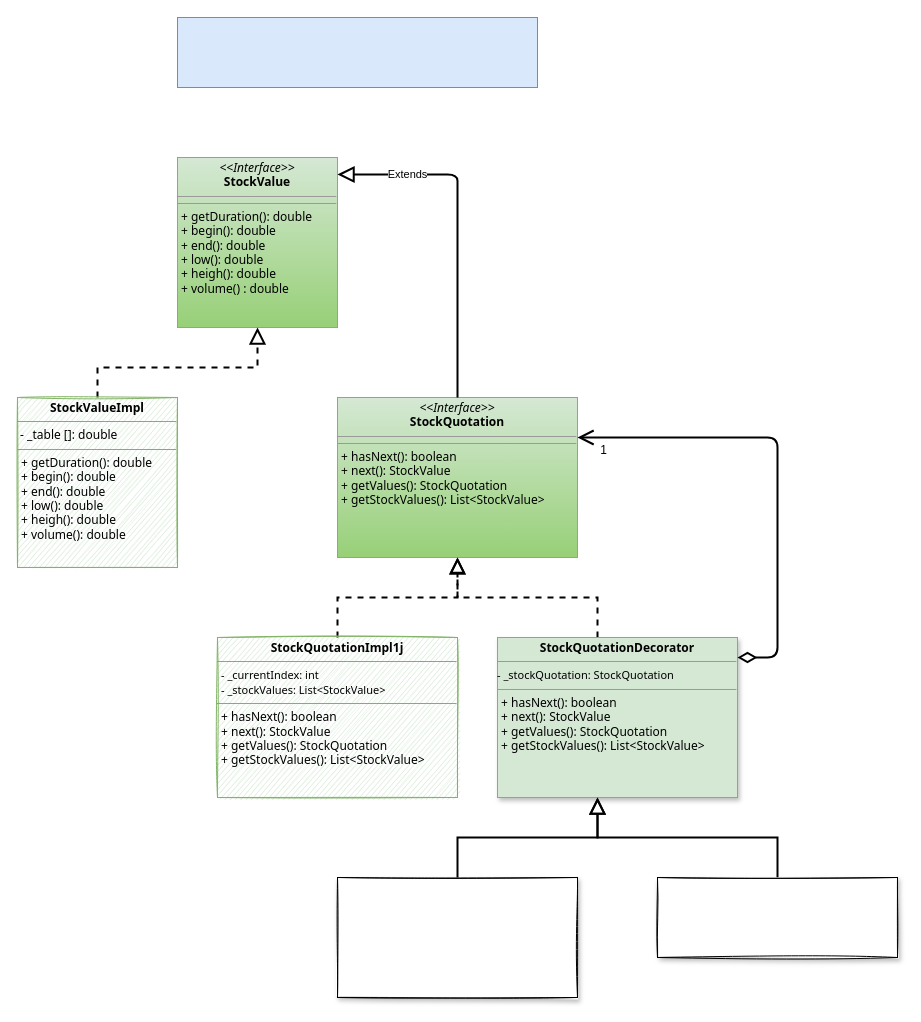
The diagram is 921 pixels wide and 1022 high, and some of its shapes have lost their labels. The shapes that lost their labels are listed below. From the top down, each one's centre as x and y in pixels, then its label:
At point 357,52: "Partie I(Stock options[1..7])".
At point 458,938: "StockQuotationImpl5j - _currentIndex: int + getStockValues(): List<StockValue>".
At point 778,918: "StockQuotationImplBadValues + getStockValues(): List<StockValue>".
